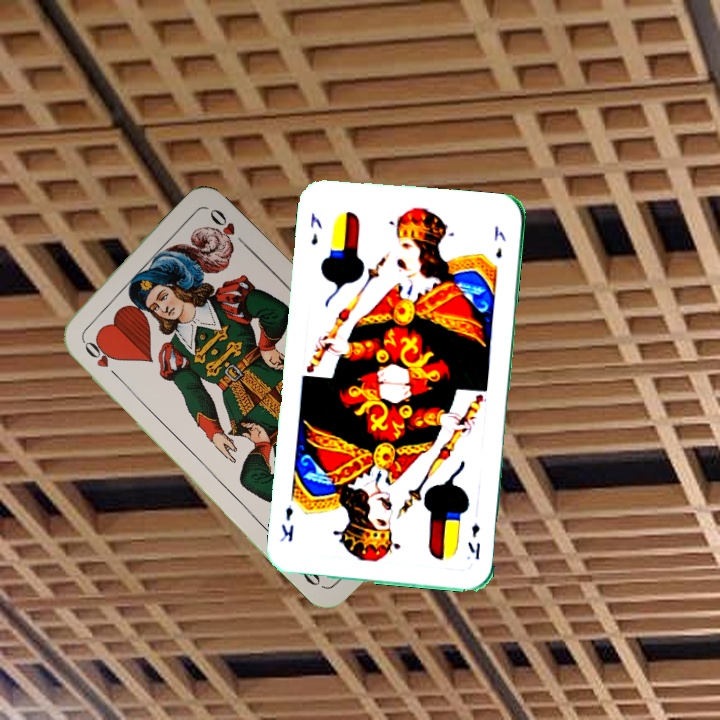EK: (463, 519, 483, 562), (306, 209, 325, 248)
HO: (77, 334, 123, 382)
